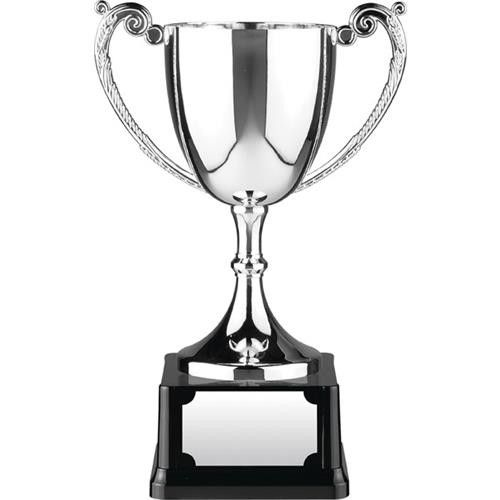trophy: (91, 1, 411, 499)
